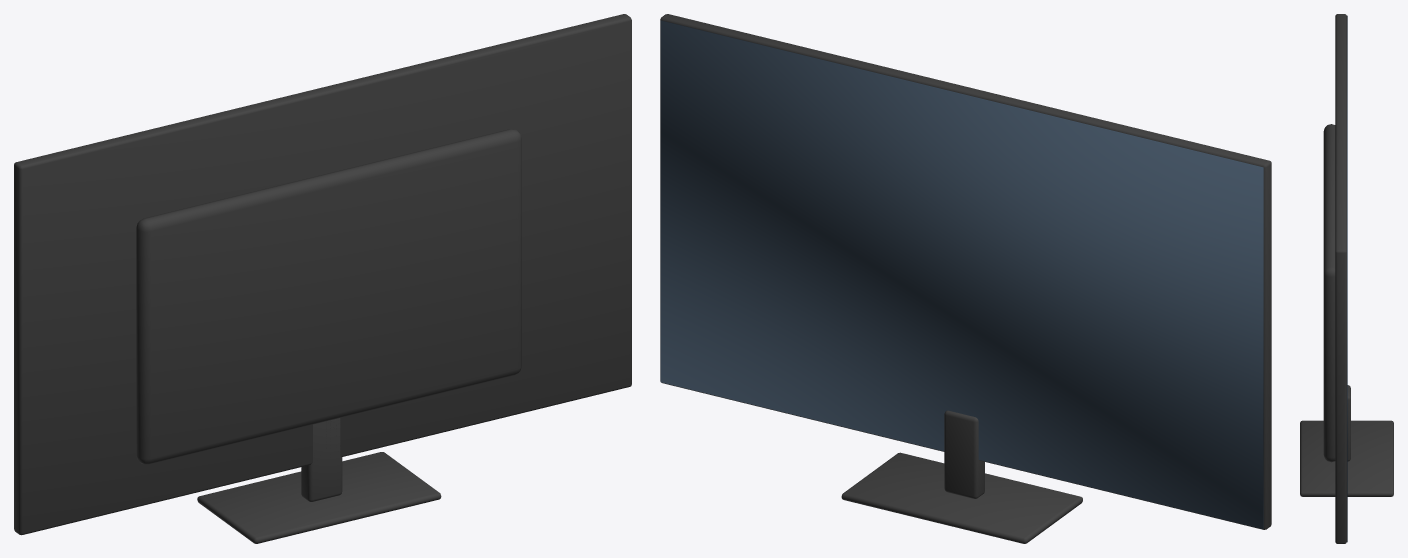
3 views of the same model, side by side, from view 1: azimuth 30°, elevation 25°; view 2: azimuth 150°, elevation 25°; view 3: azimuth 270°, elevation 25° (orthographic). The views are drawn at different scales.
Parts seen in each view (by area): view 1: tela; view 2: tela; view 3: tela.
Part boxes in pixels (box(x1,y1,x2,y2)): tela: box(14, 14, 631, 543); tela: box(660, 14, 1271, 543); tela: box(1300, 14, 1393, 543).
Bounding box in the file's own units: 1.44 × 0.93 × 0.2399.
